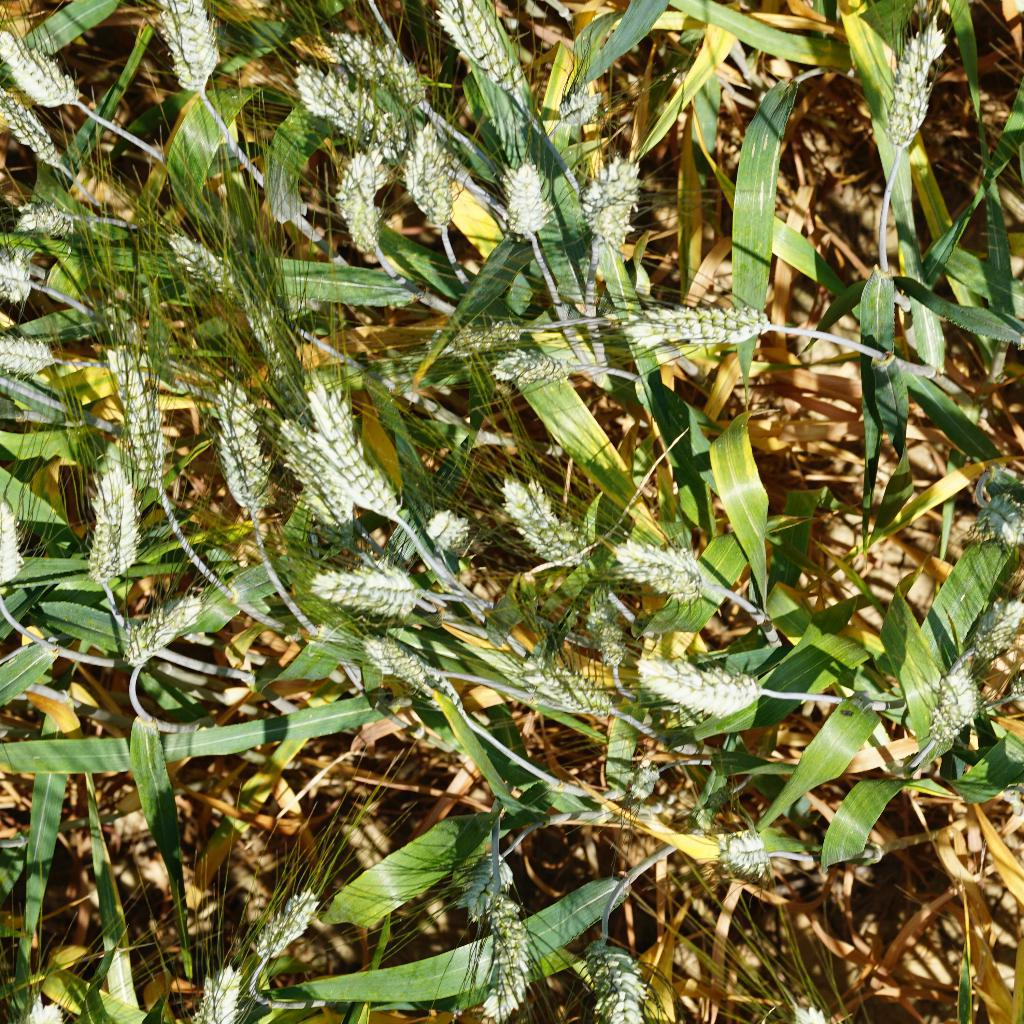0-0: (291, 372, 417, 530), (265, 408, 361, 544), (871, 11, 959, 156), (628, 645, 776, 729), (195, 363, 273, 519), (492, 470, 601, 578), (70, 449, 152, 589), (419, 0, 530, 101), (320, 25, 438, 116), (133, 0, 231, 100), (219, 254, 307, 363), (623, 287, 780, 348), (602, 531, 717, 613), (307, 553, 437, 624), (104, 586, 218, 665), (396, 118, 470, 238), (0, 34, 100, 120), (576, 163, 660, 265), (501, 646, 609, 725), (111, 363, 174, 496), (474, 886, 535, 1021), (329, 144, 396, 258), (290, 66, 389, 141), (904, 660, 986, 750), (165, 219, 253, 296), (585, 942, 665, 1024), (488, 153, 559, 242), (0, 102, 83, 176), (355, 626, 433, 694), (238, 893, 318, 957), (2, 194, 93, 250), (955, 591, 1024, 662), (713, 829, 785, 893), (967, 468, 1024, 548), (183, 956, 250, 1024), (552, 71, 623, 135), (0, 501, 45, 600), (437, 316, 548, 355), (482, 347, 582, 389), (0, 328, 70, 377), (581, 605, 631, 671), (0, 246, 47, 311), (422, 503, 482, 553), (615, 756, 668, 808)
